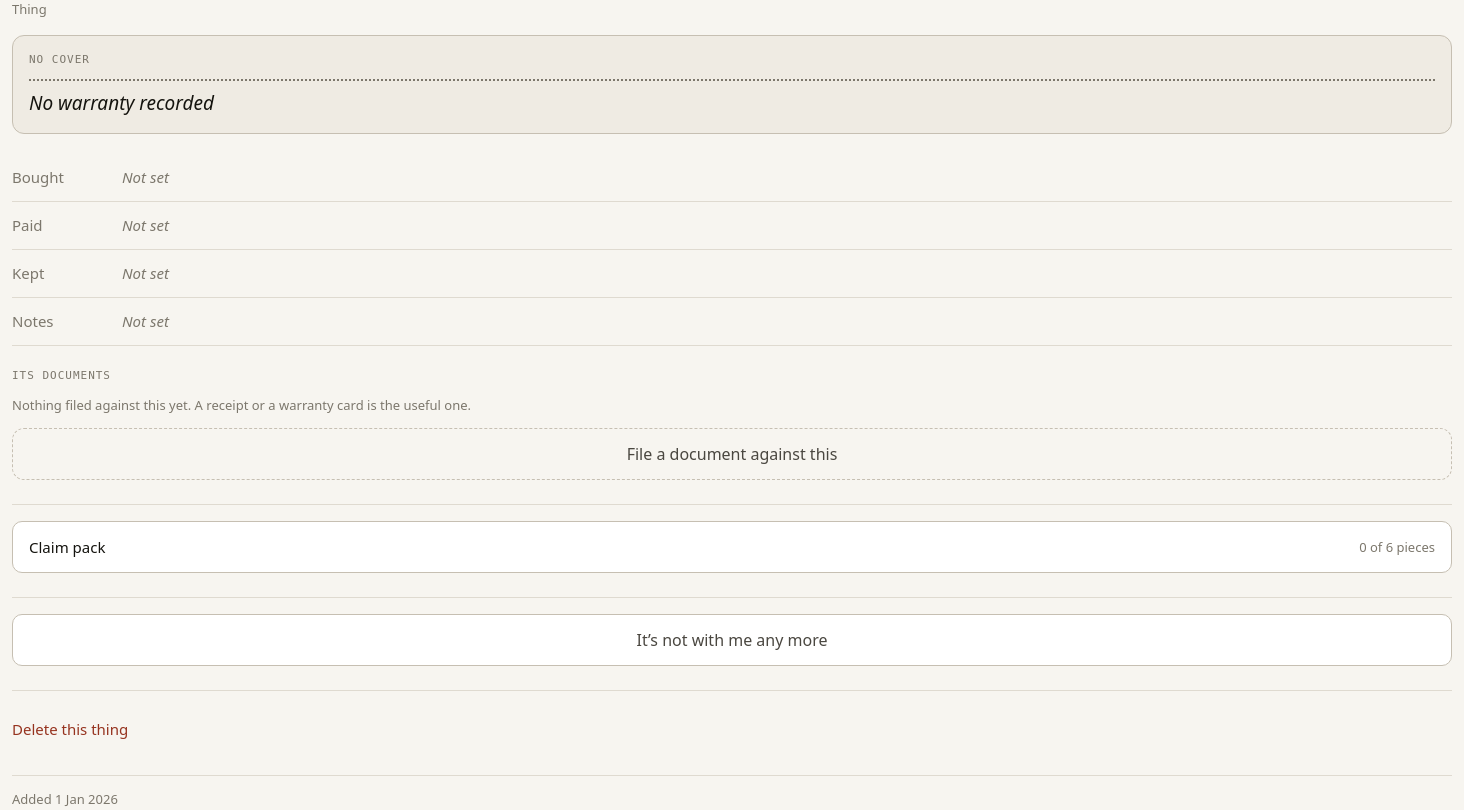
it: ownership on the screen › surfaces a refused write rather than appearing to have saved
(page scrolled)
Click the button "It’s not with me any more".
click(732, 640)  # box [12,614,1452,666]
(page scrolled)
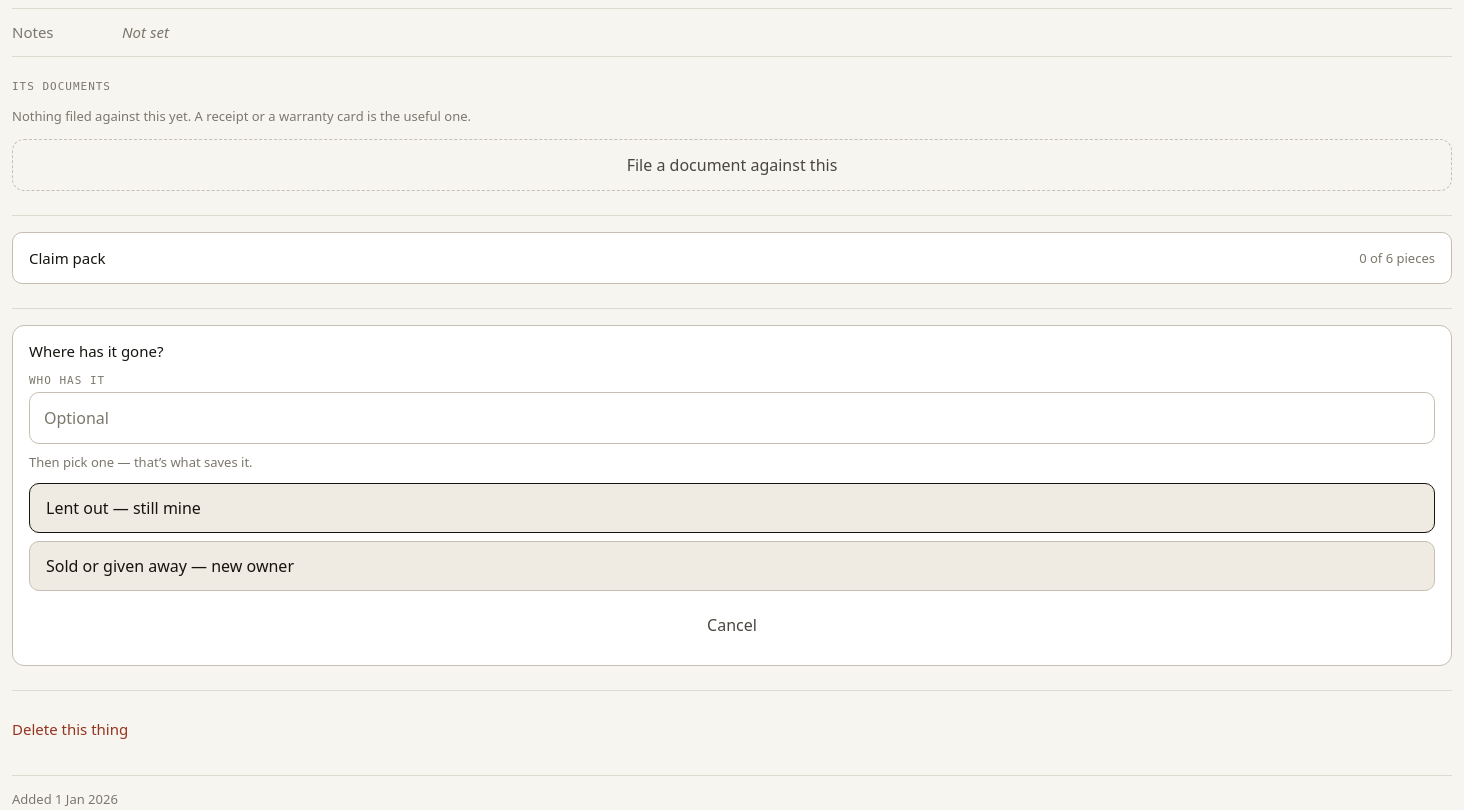
Click the button "Lent out — still mine".
click(123, 508)  # box [29,483,1435,533]
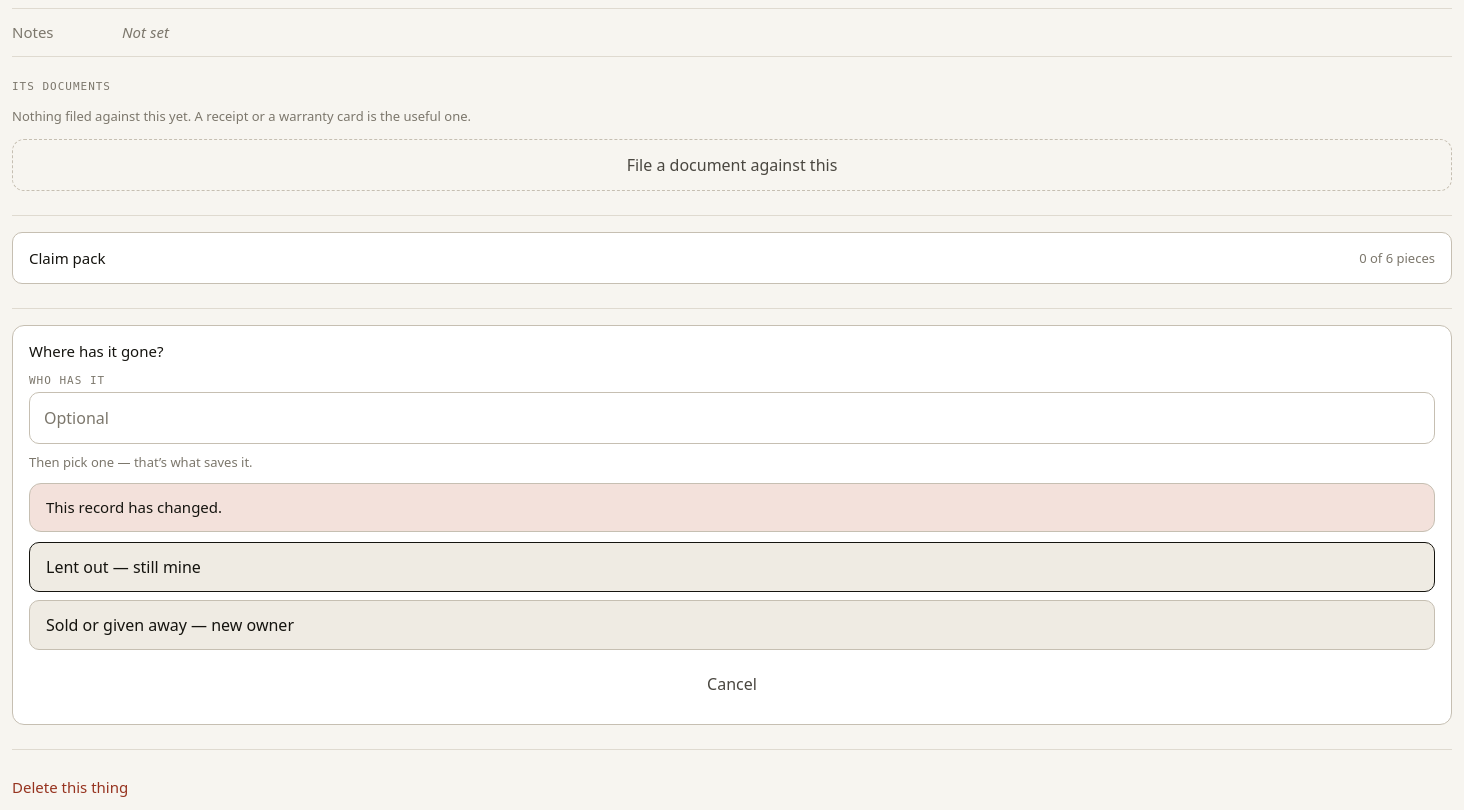
Now the field labelled "Who has it" is shown, box [29,392,1435,444]
Now the message reads "This record has changed.", box [46,497,222,517]
